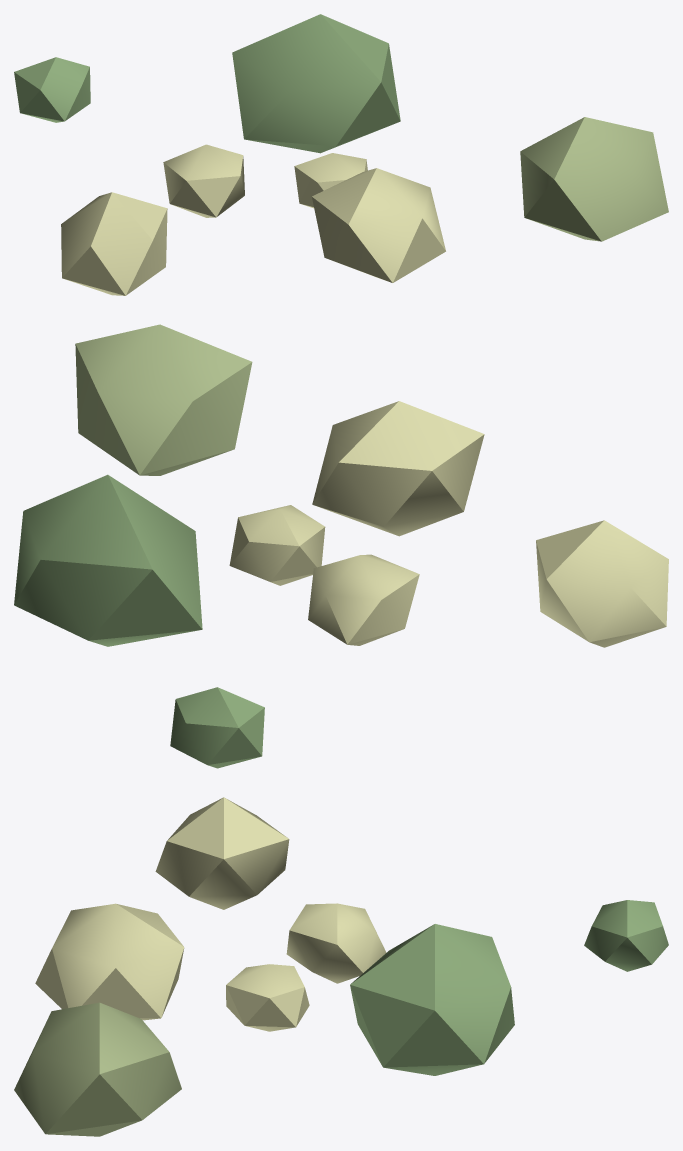
The model's file is mold_tuft.glb.
3 renders of one model, top to bottom at view 1: azimuth 30°, elevation 25°; view 2: azimuth 150°, elevation 25°; view 3: azimuth 270°, elevation 25°, orthographic. The views are drawn at different scales.
Parts seen in each view (by area): view 1: mold_tuft; view 2: mold_tuft; view 3: mold_tuft.
Boxes of the visible parts, x1,y1,x2,y2 form: mold_tuft: [14, 14, 668, 295]; mold_tuft: [14, 324, 668, 768]; mold_tuft: [14, 797, 668, 1136].
Size of the model in its own units: 0.875 by 0.2197 by 0.8486.
